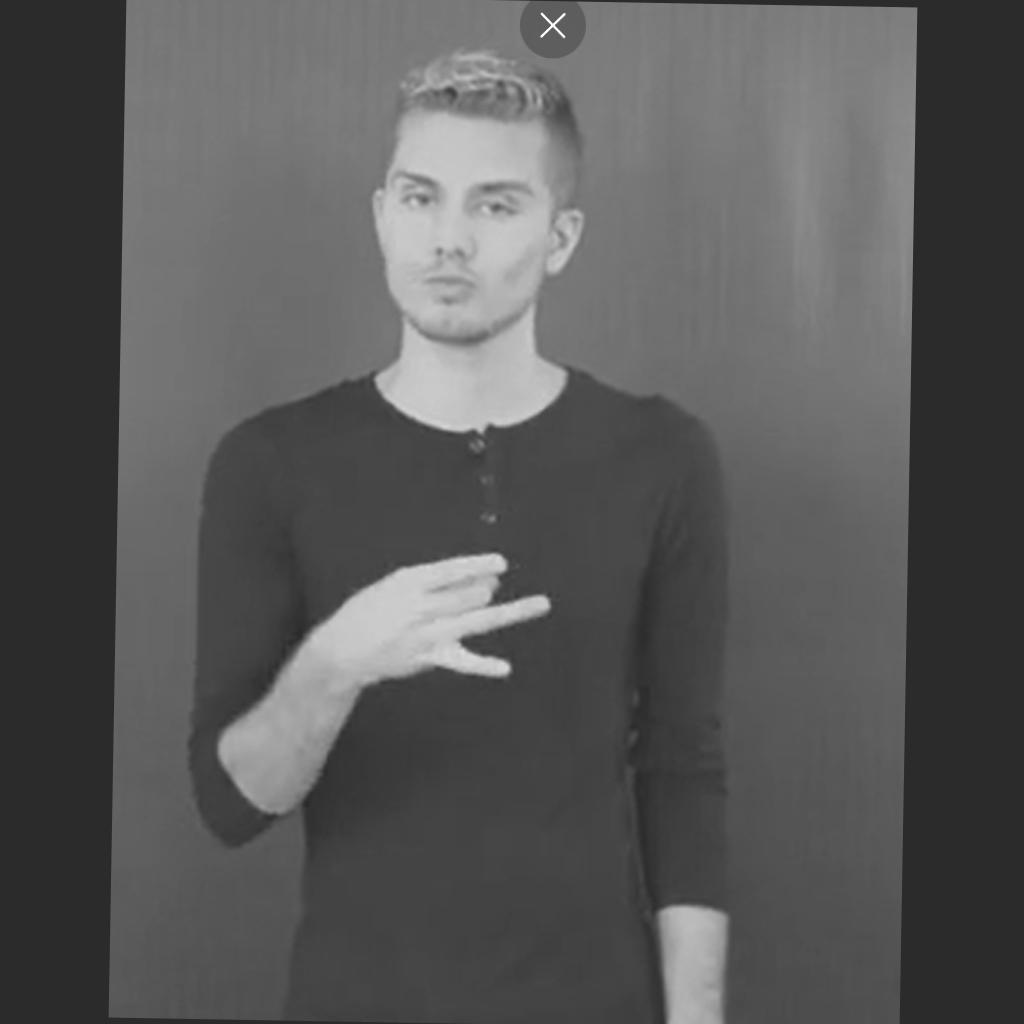like: (337, 550, 549, 678)
